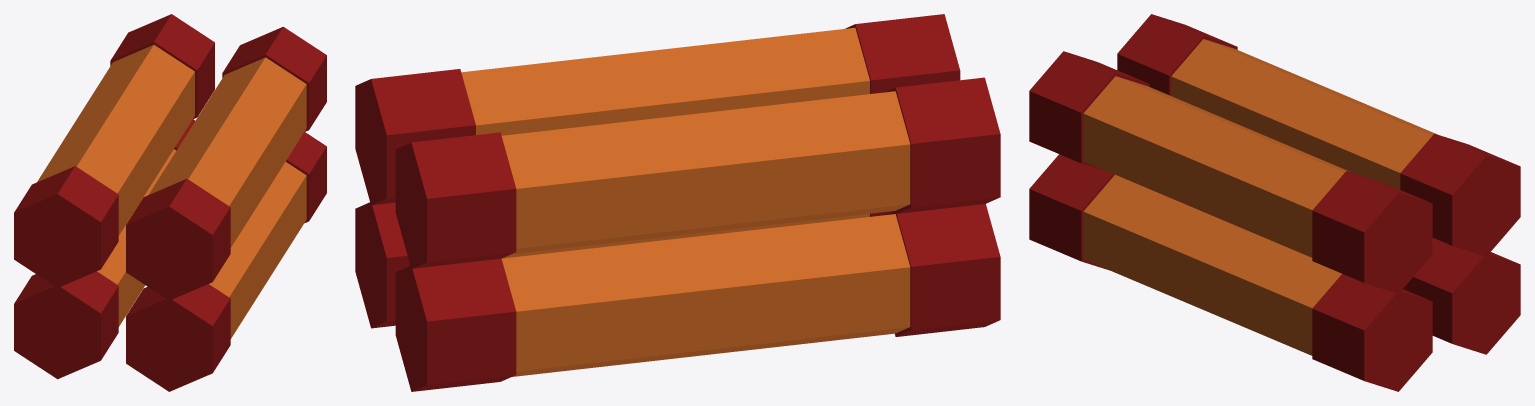
The model's file is ce_ammo2_m74_inc_c.obj.
3 renders of one model, left to right at view 1: azimuth 30°, elevation 25°; view 2: azimuth 150°, elevation 25°; view 3: azimuth 270°, elevation 25°, orthographic. The views are drawn at different scales.
Visible parts, largest first — view 1: ce_ammo2_m74_inc_c_10, ce_ammo2_m74_inc_c_7, ce_ammo2_m74_inc_c_6, ce_ammo2_m74_inc_c_9, ce_ammo2_m74_inc_c_3, ce_ammo2_m74_inc_c_0, ce_ammo2_m74_inc_c_4, ce_ammo2_m74_inc_c_11, ce_ammo2_m74_inc_c_8, ce_ammo2_m74_inc_c_5, ce_ammo2_m74_inc_c_1; view 2: ce_ammo2_m74_inc_c_1, ce_ammo2_m74_inc_c_7, ce_ammo2_m74_inc_c_10, ce_ammo2_m74_inc_c_8, ce_ammo2_m74_inc_c_2, ce_ammo2_m74_inc_c_6, ce_ammo2_m74_inc_c_0, ce_ammo2_m74_inc_c_11, ce_ammo2_m74_inc_c_9, ce_ammo2_m74_inc_c_5, ce_ammo2_m74_inc_c_4; view 3: ce_ammo2_m74_inc_c_10, ce_ammo2_m74_inc_c_4, ce_ammo2_m74_inc_c_7, ce_ammo2_m74_inc_c_11, ce_ammo2_m74_inc_c_5, ce_ammo2_m74_inc_c_8, ce_ammo2_m74_inc_c_2, ce_ammo2_m74_inc_c_9, ce_ammo2_m74_inc_c_3, ce_ammo2_m74_inc_c_6.
Boxes of the visible parts, x1,y1,x2,y2 form: ce_ammo2_m74_inc_c_10: [148, 57, 306, 247]; ce_ammo2_m74_inc_c_7: [37, 45, 194, 235]; ce_ammo2_m74_inc_c_6: [14, 166, 118, 287]; ce_ammo2_m74_inc_c_9: [126, 179, 230, 300]; ce_ammo2_m74_inc_c_3: [126, 284, 230, 391]; ce_ammo2_m74_inc_c_0: [14, 271, 118, 379]; ce_ammo2_m74_inc_c_4: [209, 161, 306, 338]; ce_ammo2_m74_inc_c_11: [222, 26, 326, 131]; ce_ammo2_m74_inc_c_8: [110, 14, 214, 119]; ce_ammo2_m74_inc_c_5: [286, 132, 326, 223]; ce_ammo2_m74_inc_c_1: [97, 149, 176, 326]; ce_ammo2_m74_inc_c_1: [501, 214, 910, 376]; ce_ammo2_m74_inc_c_7: [501, 91, 910, 254]; ce_ammo2_m74_inc_c_10: [461, 27, 869, 135]; ce_ammo2_m74_inc_c_8: [395, 132, 516, 268]; ce_ammo2_m74_inc_c_2: [395, 258, 516, 391]; ce_ammo2_m74_inc_c_6: [886, 77, 1000, 213]; ce_ammo2_m74_inc_c_0: [886, 204, 1000, 336]; ce_ammo2_m74_inc_c_11: [355, 69, 475, 205]; ce_ammo2_m74_inc_c_9: [845, 14, 960, 93]; ce_ammo2_m74_inc_c_5: [355, 202, 410, 328]; ce_ammo2_m74_inc_c_4: [502, 213, 869, 258]; ce_ammo2_m74_inc_c_10: [1083, 76, 1349, 257]; ce_ammo2_m74_inc_c_4: [1083, 174, 1341, 355]; ce_ammo2_m74_inc_c_7: [1171, 39, 1436, 189]; ce_ammo2_m74_inc_c_11: [1312, 171, 1432, 293]; ce_ammo2_m74_inc_c_5: [1312, 274, 1432, 391]; ce_ammo2_m74_inc_c_8: [1400, 133, 1520, 256]; ce_ammo2_m74_inc_c_2: [1403, 238, 1520, 354]; ce_ammo2_m74_inc_c_9: [1029, 51, 1149, 172]; ce_ammo2_m74_inc_c_3: [1029, 154, 1114, 269]; ce_ammo2_m74_inc_c_6: [1117, 14, 1237, 95].
Size of the model in its own units: 0.4666 by 0.2087 by 0.4666.
